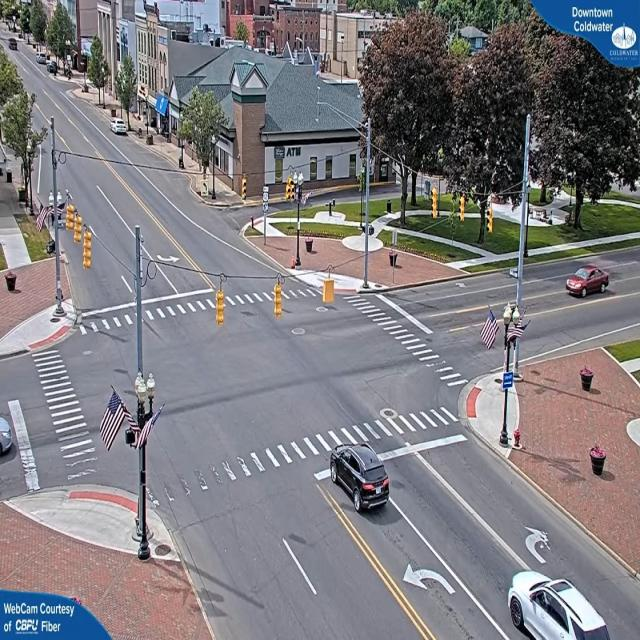car: (508, 574, 619, 640), (330, 444, 393, 512), (566, 261, 612, 298), (111, 120, 129, 136)
